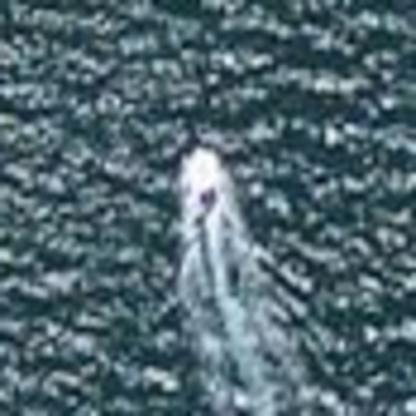ship: (170, 143, 238, 215)
